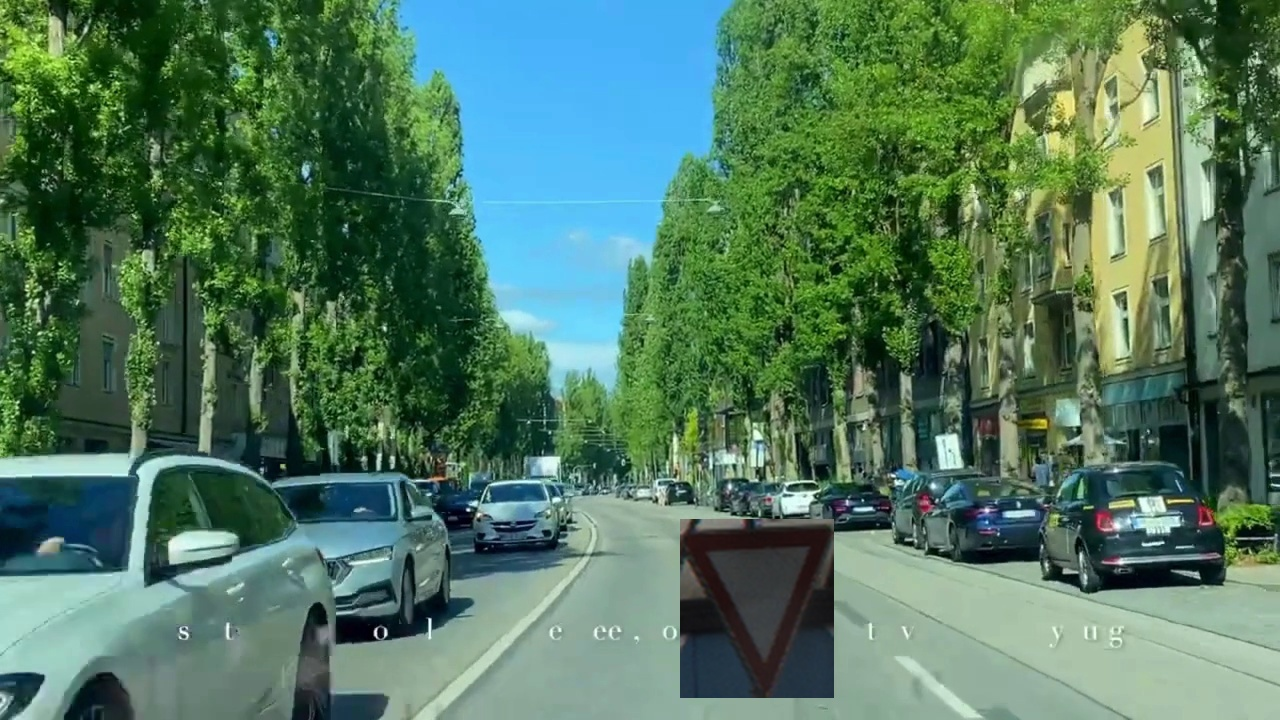Yield: (680, 519, 834, 698)
